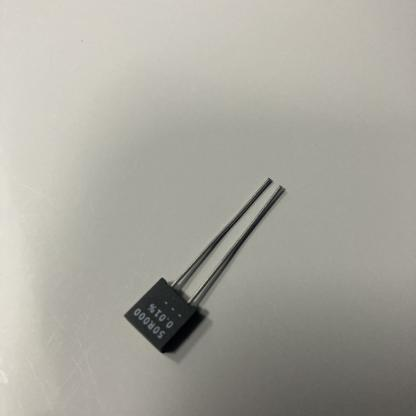SP0000008: (108, 134, 353, 374)
